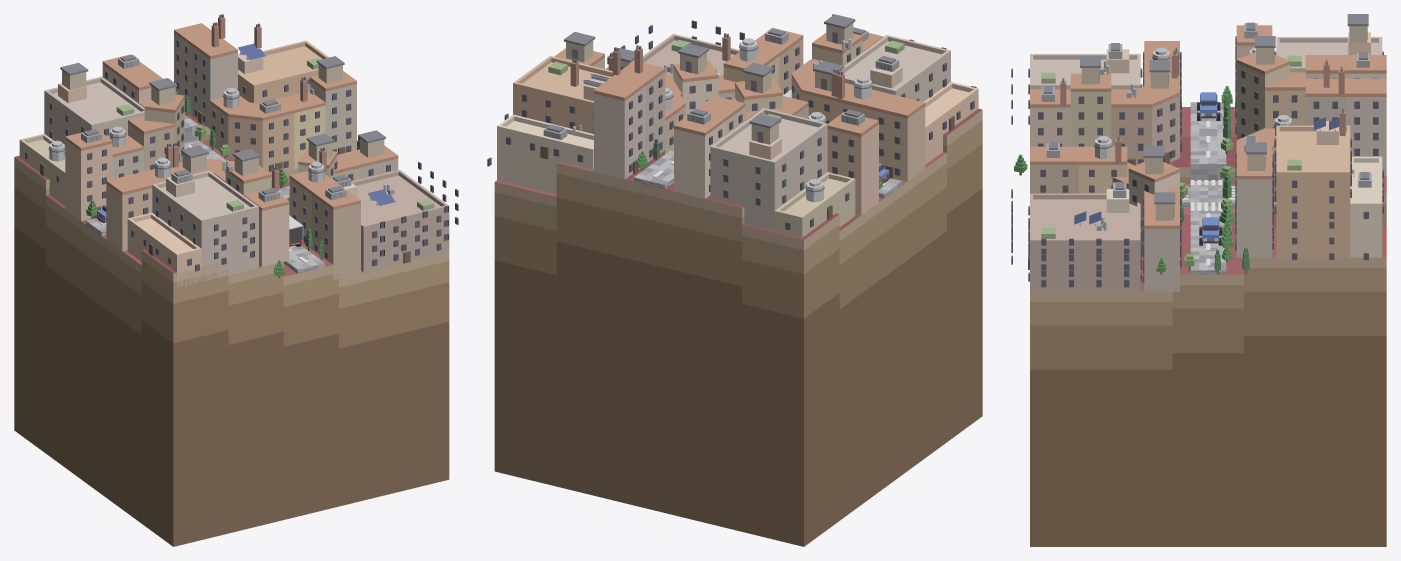
Rendered from block_14_permeable_20.glb.
3 views of the same model, side by side, from view 1: azimuth 30°, elevation 25°; view 2: azimuth 150°, elevation 25°; view 3: azimuth 270°, elevation 25° (orthographic). The views are drawn at different scales.
Parts seen in each view (by area): view 1: Patch_MidRight_b14_PP, Cerda_MidRight_b14_PP, Insets_MidRight_b14_PP, CerdaRoofProps_MidRight_b14_PP, Roads_MidRight_b14_PP; view 2: Patch_MidRight_b14_PP, Insets_MidRight_b14_PP, Cerda_MidRight_b14_PP, CerdaRoofProps_MidRight_b14_PP, Roads_MidRight_b14_PP; view 3: Patch_MidRight_b14_PP, Cerda_MidRight_b14_PP, Insets_MidRight_b14_PP, CerdaRoofProps_MidRight_b14_PP, Roads_MidRight_b14_PP, Asset_Car.029_PP, Asset_Car.028_PP, Zebra_MidRight_b14_PP.
Boxes of the visible parts, x1,y1,x2,y2 form: Patch_MidRight_b14_PP: (14,112,449,546); Cerda_MidRight_b14_PP: (65,23,398,279); Insets_MidRight_b14_PP: (19,40,458,287); CerdaRoofProps_MidRight_b14_PP: (48,14,395,205); Roads_MidRight_b14_PP: (86,115,324,273); Patch_MidRight_b14_PP: (494,109,982,546); Insets_MidRight_b14_PP: (487,20,978,237); Cerda_MidRight_b14_PP: (554,27,925,215); CerdaRoofProps_MidRight_b14_PP: (543,14,899,202); Roads_MidRight_b14_PP: (634,150,902,198); Patch_MidRight_b14_PP: (1030,107,1386,546); Cerda_MidRight_b14_PP: (1030,25,1386,291); Insets_MidRight_b14_PP: (1011,32,1383,291); CerdaRoofProps_MidRight_b14_PP: (1041,14,1371,230); Roads_MidRight_b14_PP: (1182,102,1234,274); Asset_Car.029_PP: (1197,92,1220,120); Asset_Car.028_PP: (1199,217,1222,245); Zebra_MidRight_b14_PP: (1182,180,1235,211).
Size of the model in its own units: 10 by 12.66 by 10.
